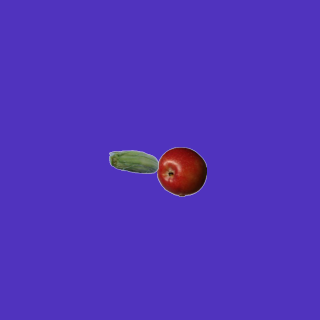Apple Braeburn: (156, 146, 206, 196)
Corn Husk: (108, 138, 158, 188)
